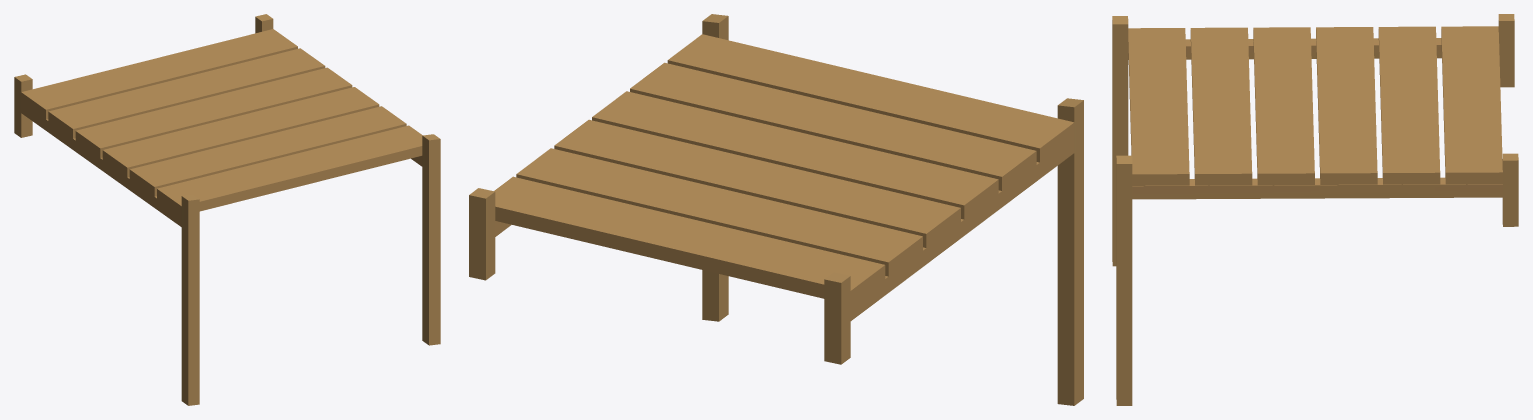
The model's file is ponton.glb.
3 views of the same model, side by side, from view 1: azimuth 30°, elevation 25°; view 2: azimuth 150°, elevation 25°; view 3: azimuth 270°, elevation 25° (orthographic). The views are drawn at different scales.
Parts seen in each view (by area): view 1: Cube.096_Material.001_0; view 2: Cube.096_Material.001_0; view 3: Cube.096_Material.001_0.
Boxes of the visible parts, bbox=[...] form: Cube.096_Material.001_0: bbox=[14, 14, 440, 405]; Cube.096_Material.001_0: bbox=[469, 14, 1083, 405]; Cube.096_Material.001_0: bbox=[1112, 14, 1518, 405].
Bounding box in the file's own units: 0.7276 × 0.5579 × 0.8425.
1 material, 1 textured.
